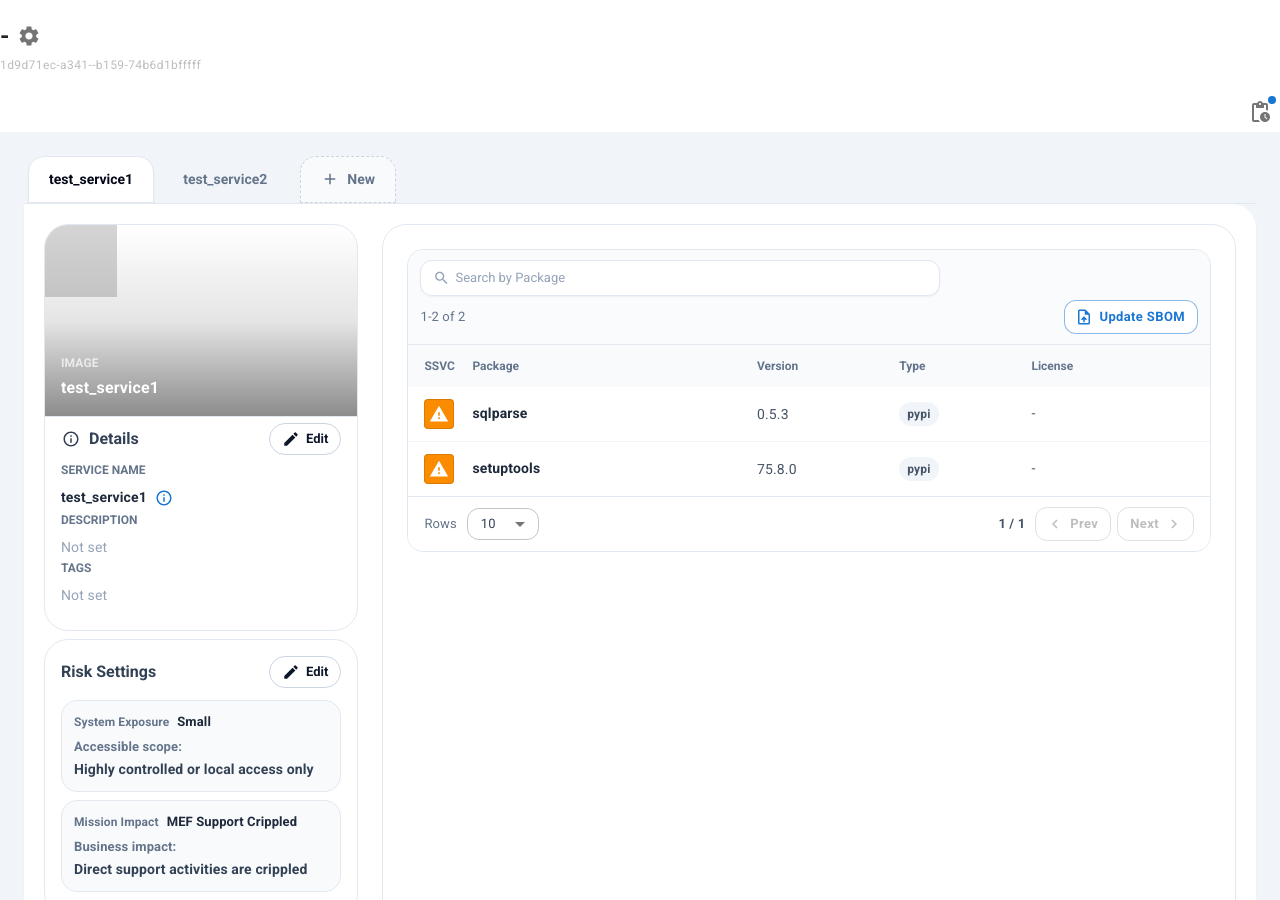
Test case: StatusPage › renders SBOM registration state › show SBOM upload progress button when the service is registered
Click the button named "Upload Progress".
click(1260, 112)  # box [1240, 92, 1279, 132]
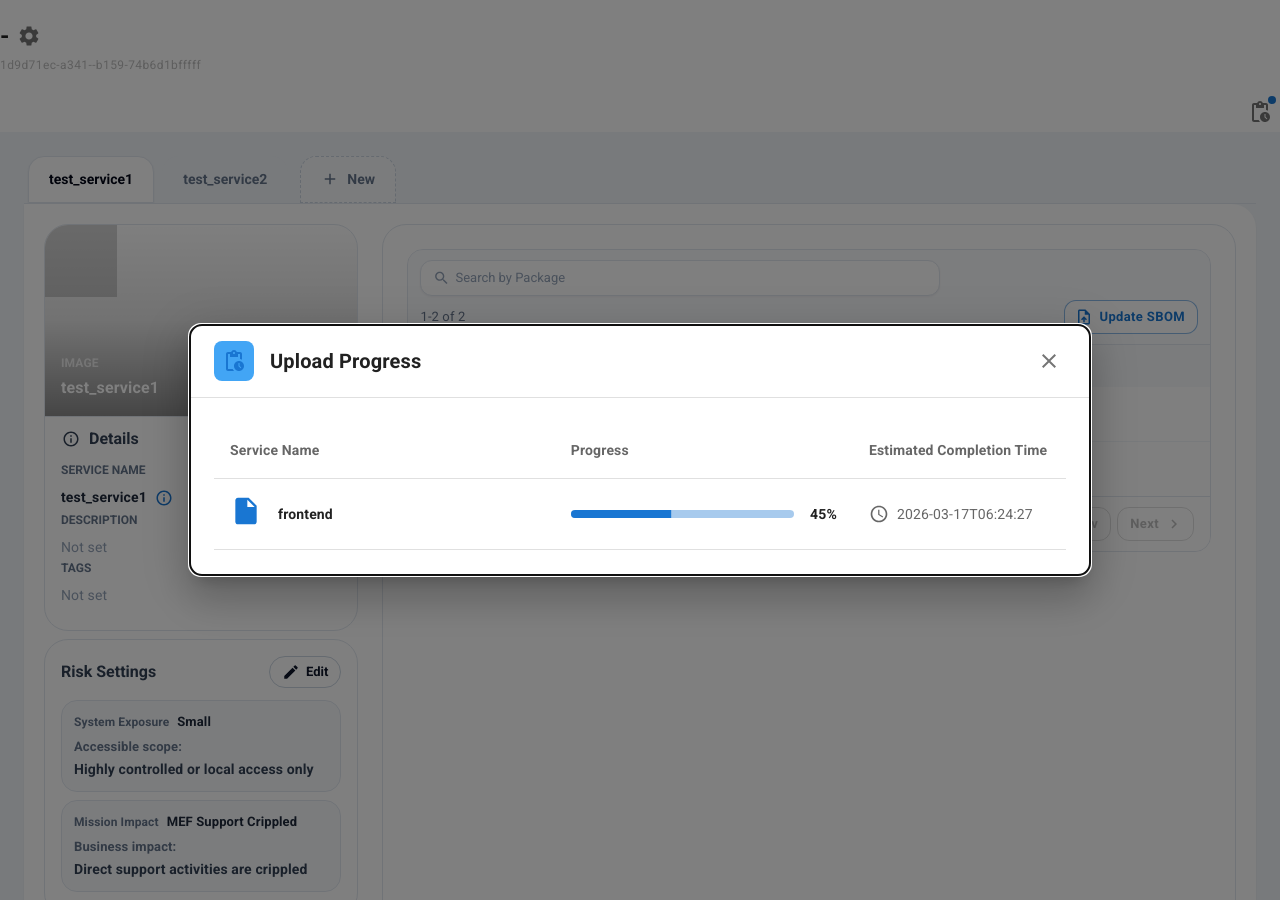
Expected: the dialog "Upload Progress" is shown, [190, 326, 1090, 574]
Expected: the text "frontend" is shown, [278, 504, 333, 524]
